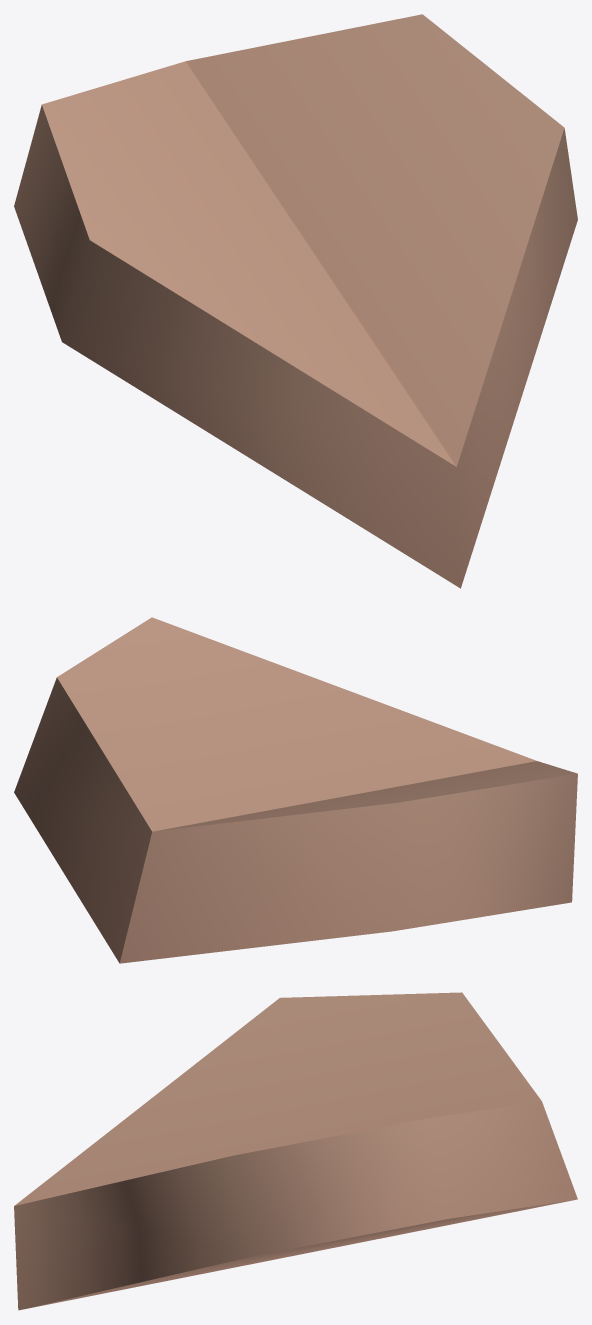
File: (%no-merge) 30.glb
The picture shows the model from 3 angles, top to bottom: view 1: azimuth 30°, elevation 25°; view 2: azimuth 150°, elevation 25°; view 3: azimuth 270°, elevation 25°; orthographic projection. The views are drawn at different scales.
Parts seen in each view (by area): view 1: (%no-merge) 30; view 2: (%no-merge) 30; view 3: (%no-merge) 30.
Part boxes in pixels (left/top/right/bottom): (%no-merge) 30: left=14, top=14, right=577, bottom=588; (%no-merge) 30: left=14, top=617, right=577, bottom=963; (%no-merge) 30: left=14, top=992, right=577, bottom=1310.
Size of the model in its own units: 0.1425 by 0.0952 by 0.1763.
